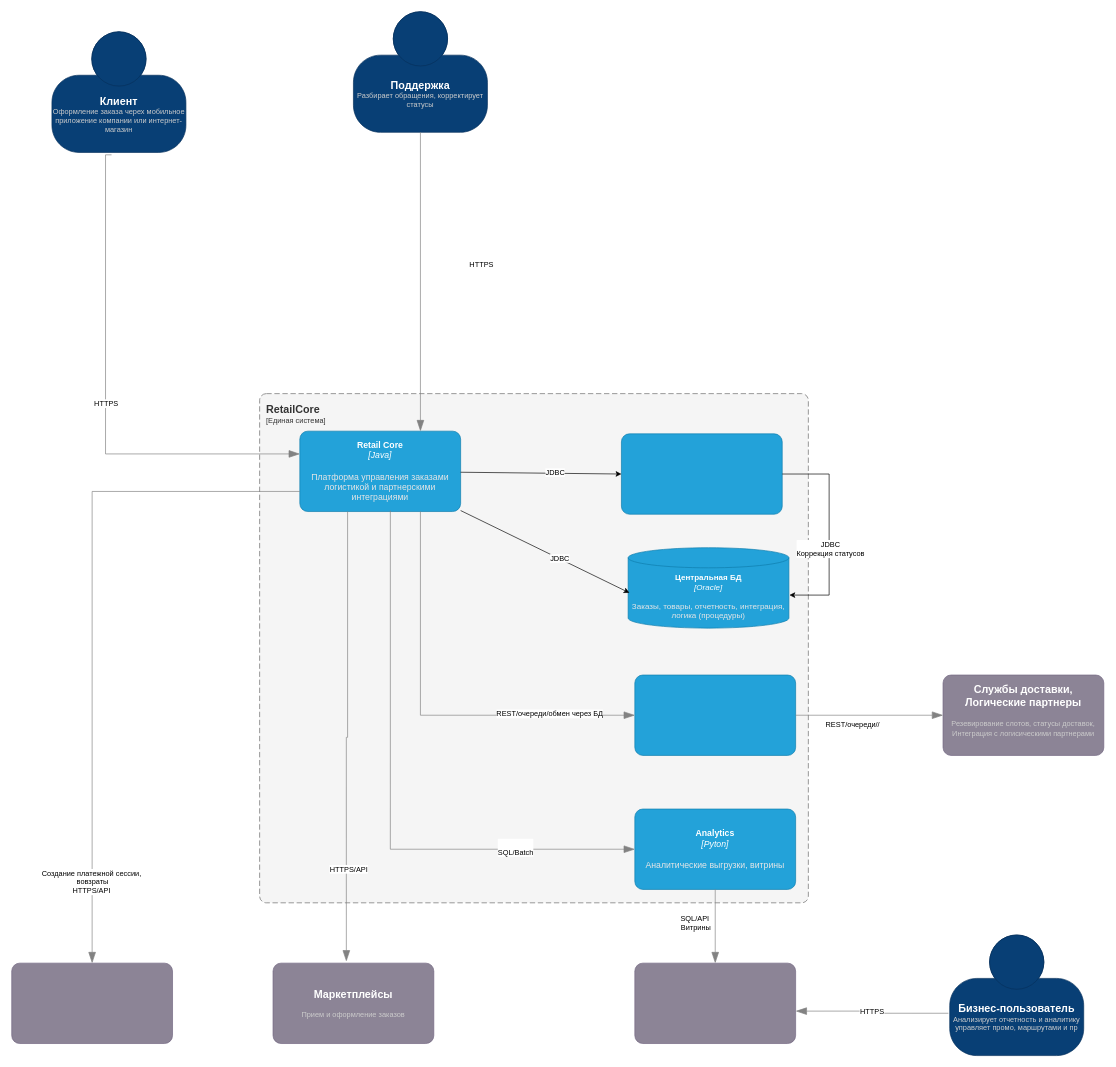
Image size: 1116x1067. Some labels were removed from this diagram. The centre of each missing label's shape, as x and y in pixels:
"Async Batch exhange [Async] Очереди, задания, выгрузки, кореляции статусов" belongs at [701,473].
"BI, отчеты Потребляют агрегированные данные о заказах Аналитические выгрузки" belongs at [715,1003].
"Платежные провайдеры Платежи, возвраты" belongs at [92,1003].
"Сервисы интеграций [.NET] Партнерские логистрические интеграции" belongs at [715,714].
